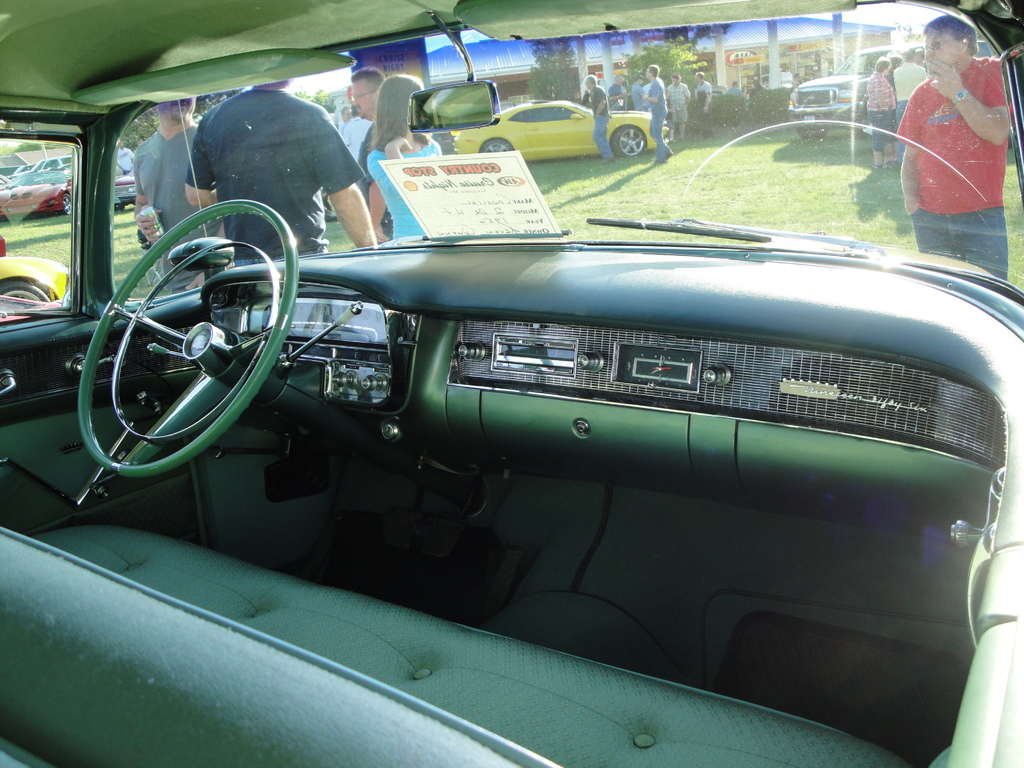Car: (0, 0, 1023, 767), (472, 76, 691, 166), (790, 41, 920, 139), (0, 167, 73, 217), (14, 156, 77, 176)
